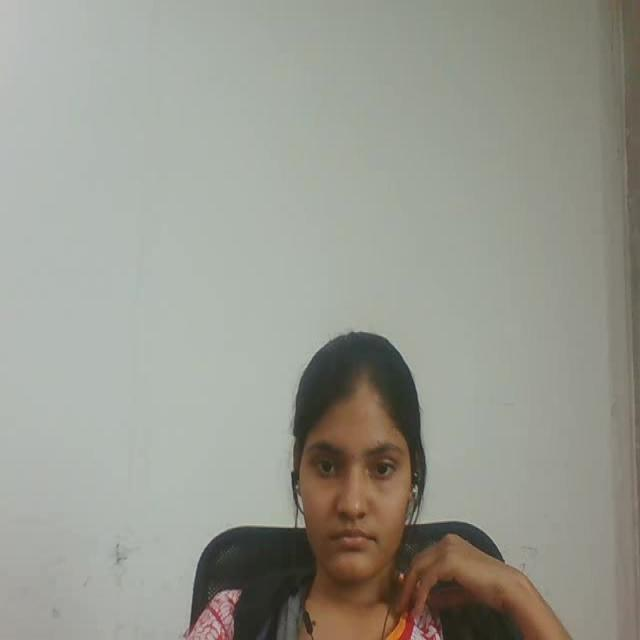Engaged: (269, 324, 427, 615)
